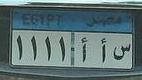1: (58, 37, 66, 61), (44, 36, 51, 61), (32, 35, 37, 60), (17, 35, 22, 60)
alif: (97, 36, 108, 64), (79, 37, 88, 62)
seen: (112, 43, 132, 61)
